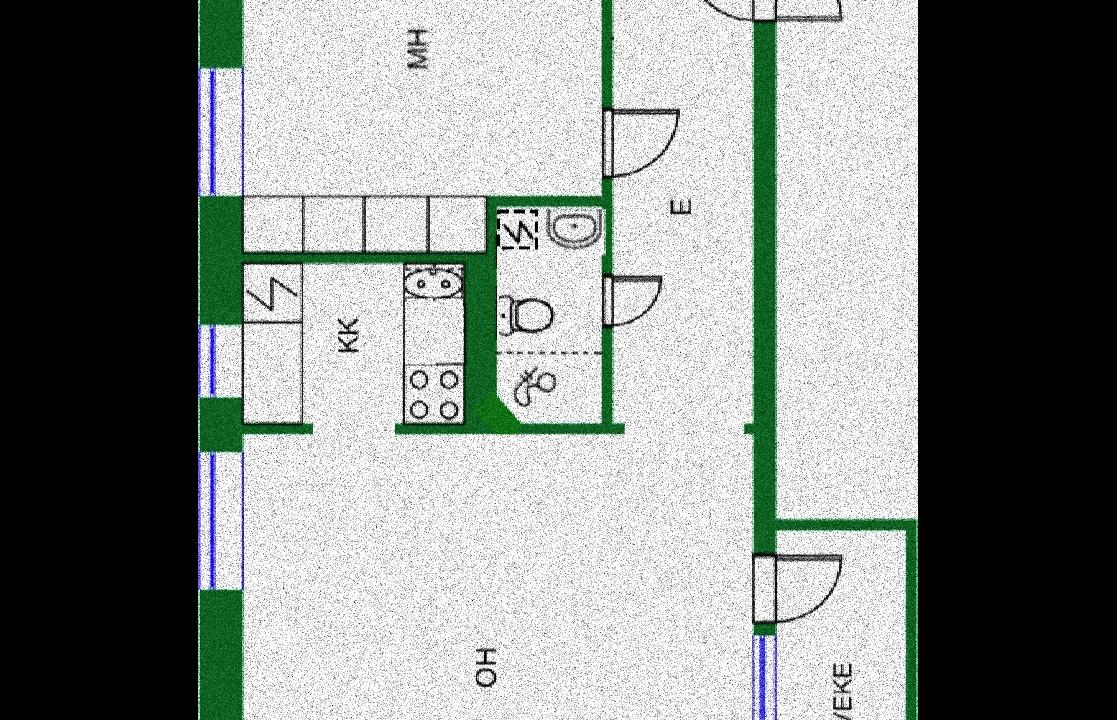door: (744, 548, 846, 624), (598, 104, 682, 180), (681, 0, 850, 27), (604, 267, 666, 328)
window: (202, 448, 247, 588), (200, 64, 246, 195), (200, 322, 247, 400), (752, 631, 775, 720)
zone: (240, 0, 749, 720), (236, 0, 603, 254), (242, 264, 462, 422), (772, 530, 906, 720), (482, 206, 600, 420)
